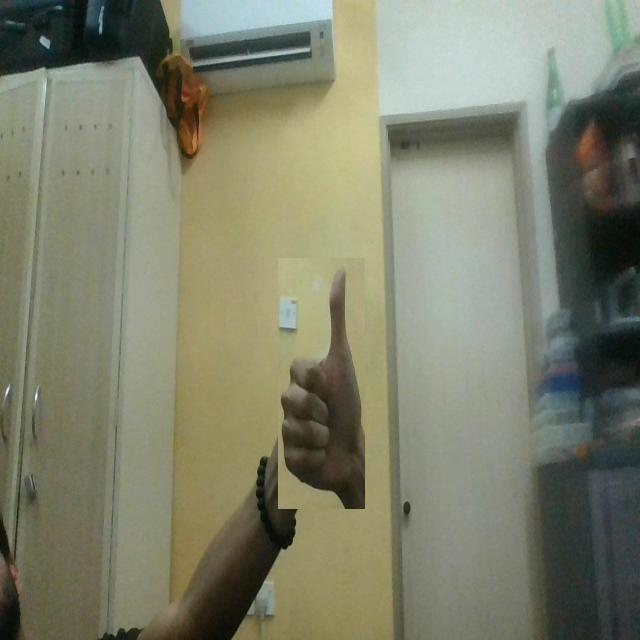thumbs up: (278, 258, 365, 509)
